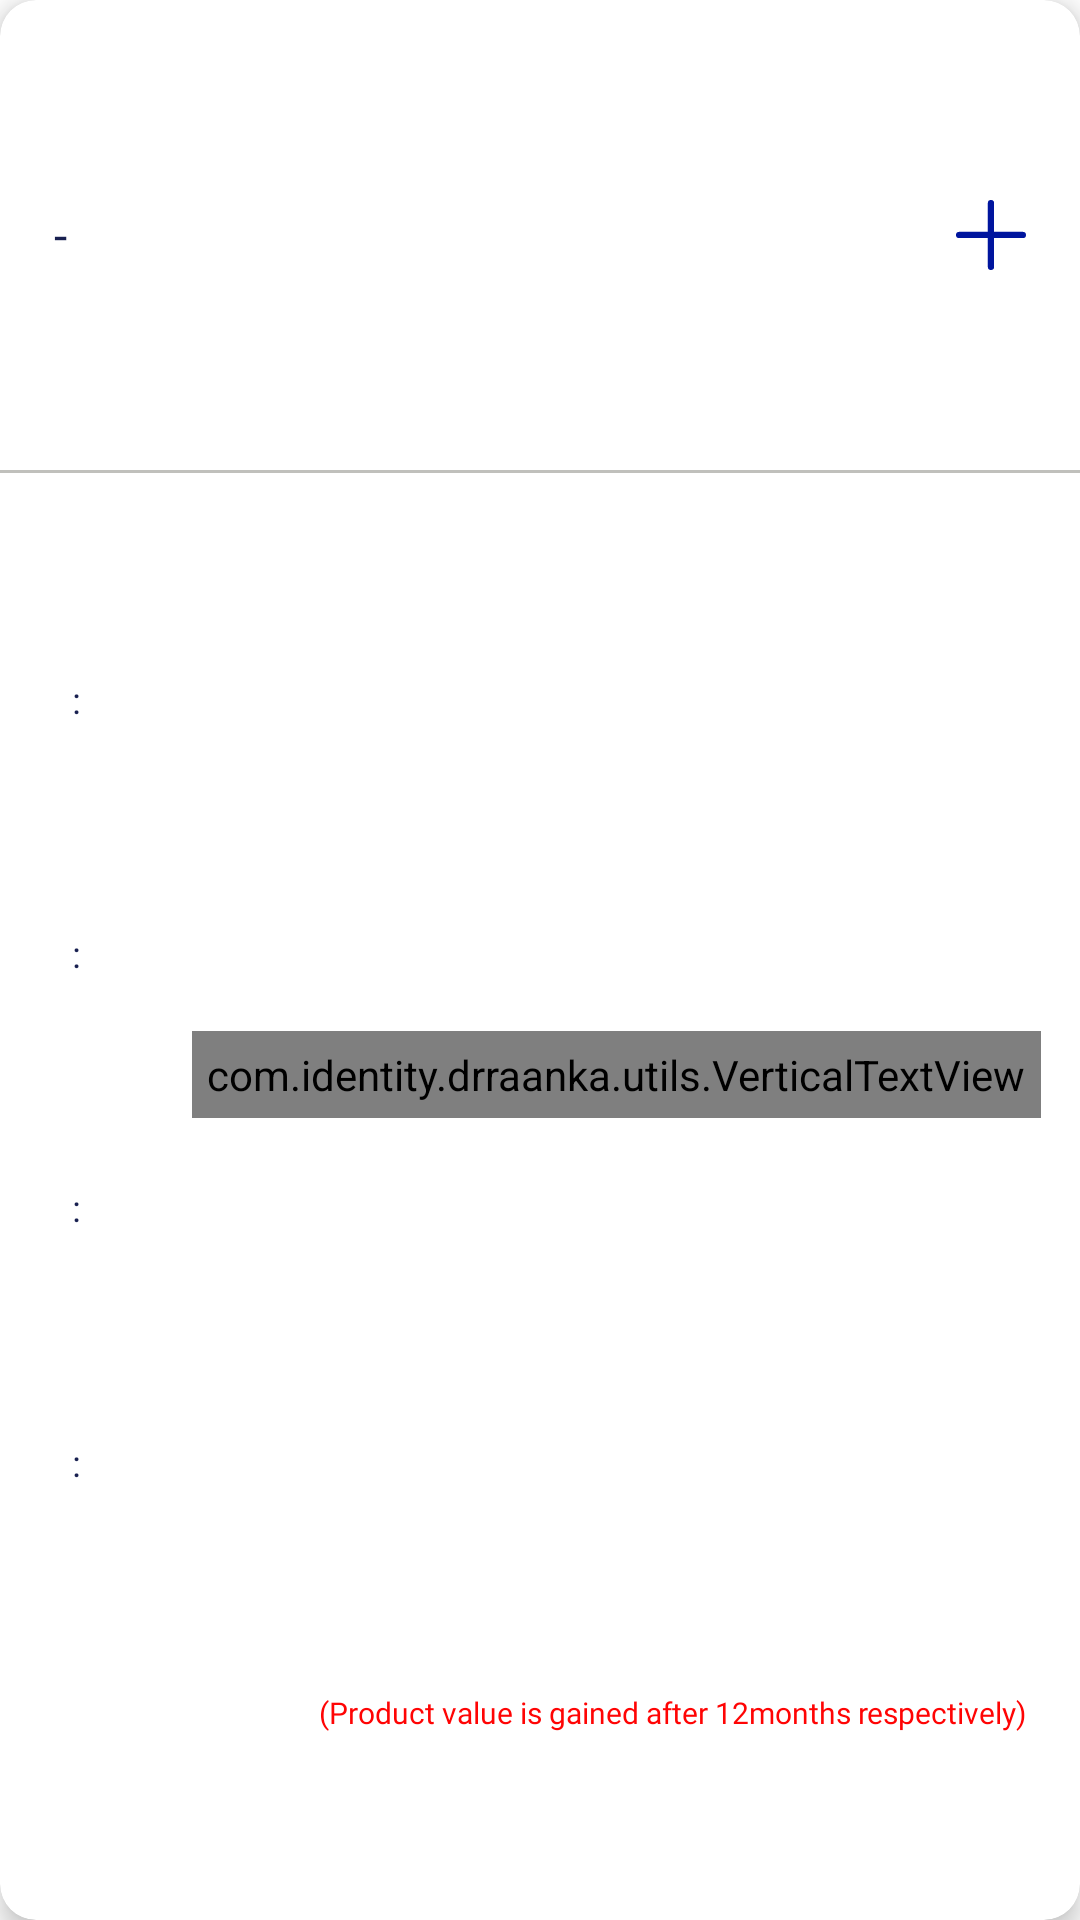

Screen size 1080x1920. Icon name, then its box in pixels as (x1, y1, x2, y2):
add: (956, 200, 1026, 270)
